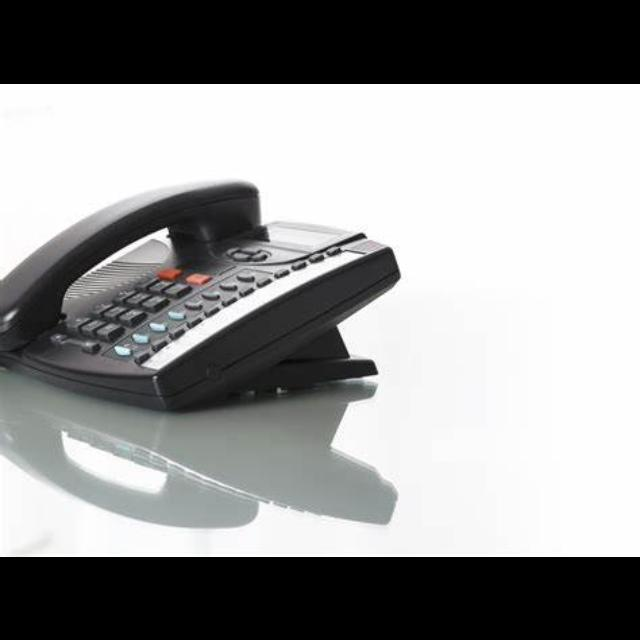Telephone-Set: (1, 170, 403, 414)
